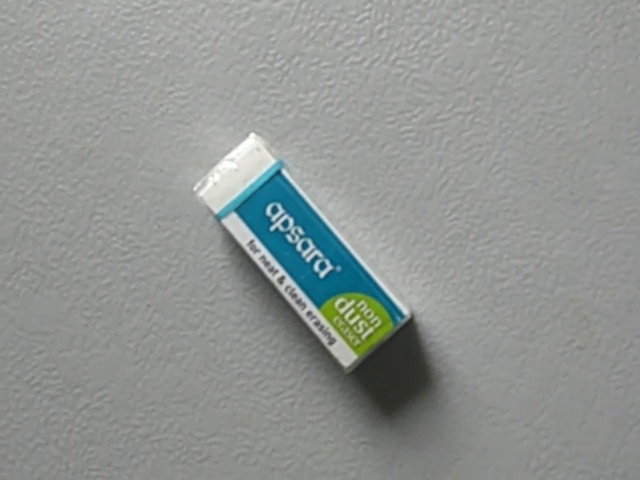Eraser: (193, 131, 418, 378)
